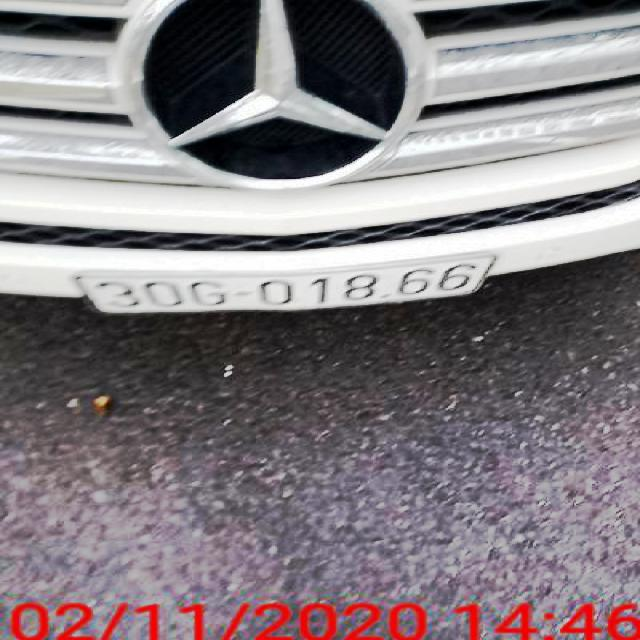license_plate: (79, 260, 498, 314)
